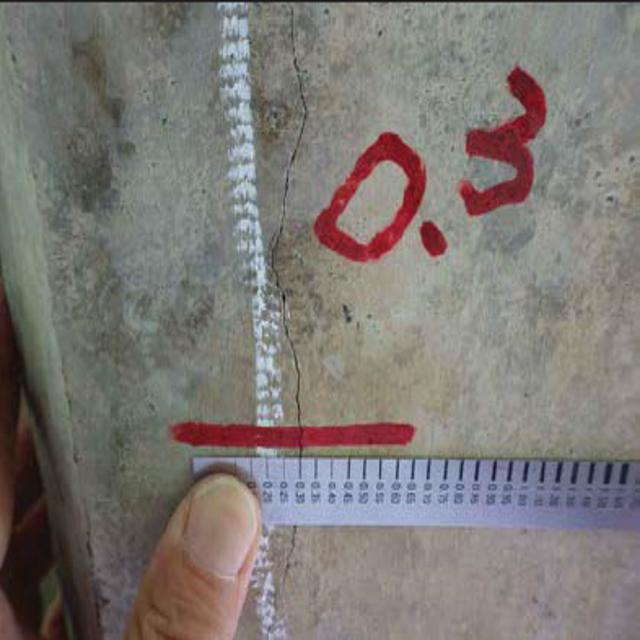crack: (257, 14, 326, 456)
